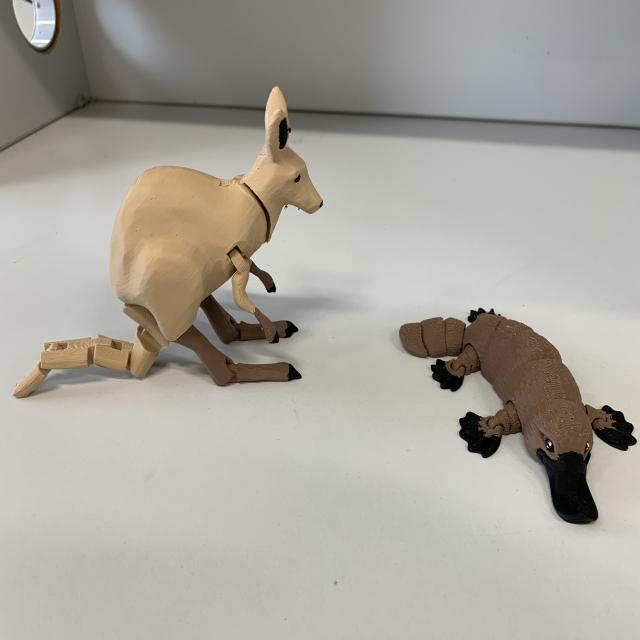kangaroo: (10, 81, 329, 415)
platypus: (391, 292, 639, 555)
